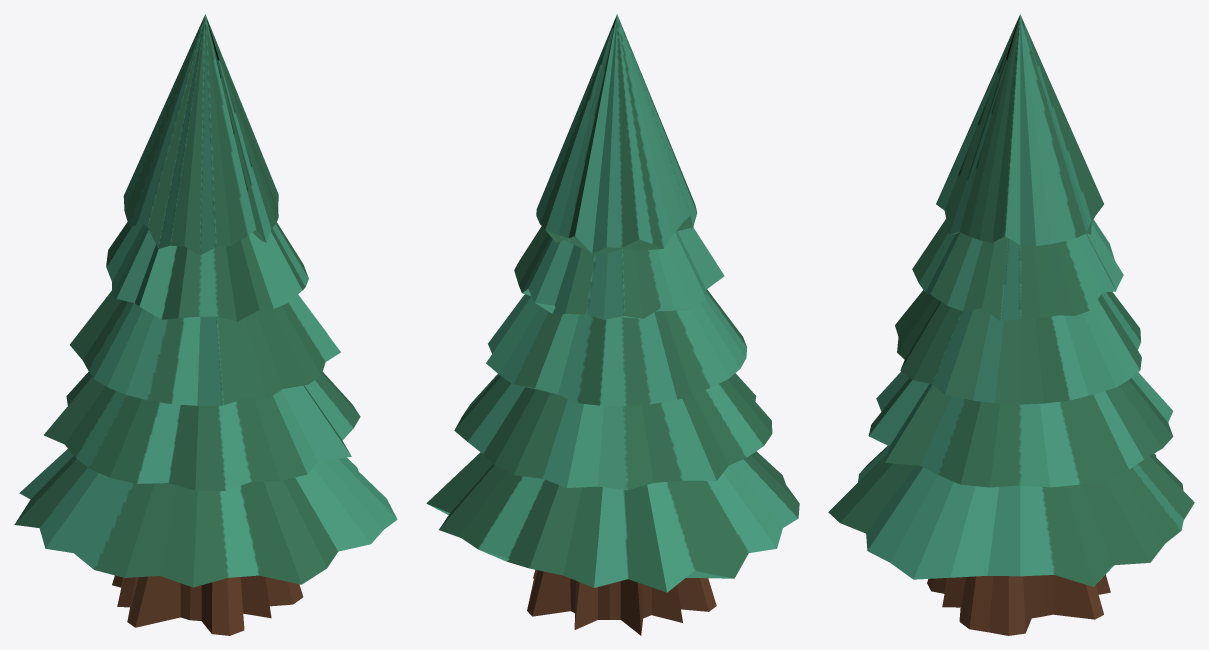
The model's file is Tree.fbx.
3 renders of one model, left to right at view 1: azimuth 30°, elevation 25°; view 2: azimuth 150°, elevation 25°; view 3: azimuth 270°, elevation 25°, orthographic.
Parts seen in each view (by area): view 1: Cylinder; view 2: Cylinder; view 3: Cylinder.
Boxes of the visible parts, box(x1,y1,x2,y2) form: Cylinder: box(14, 14, 397, 635); Cylinder: box(426, 14, 799, 635); Cylinder: box(828, 14, 1194, 635).
Bounding box in the file's own units: 363 × 643 × 368.
